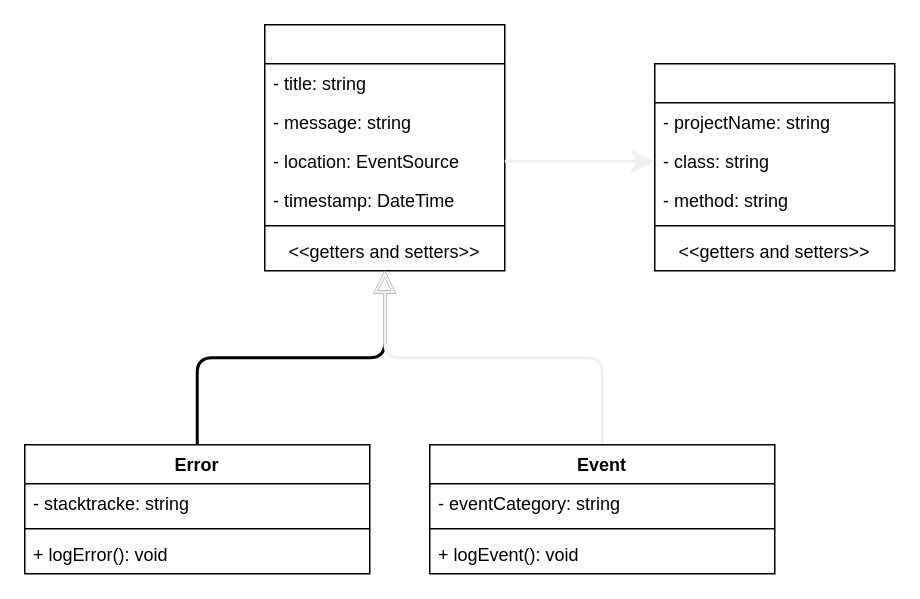
This 920x599 diagram has some shape labels left out. The box of each missing label's shape, as (x1, y1, x2, y2) in pixels:
AbstractEvent: (263, 23, 505, 271)
EventSource: (653, 62, 895, 271)
